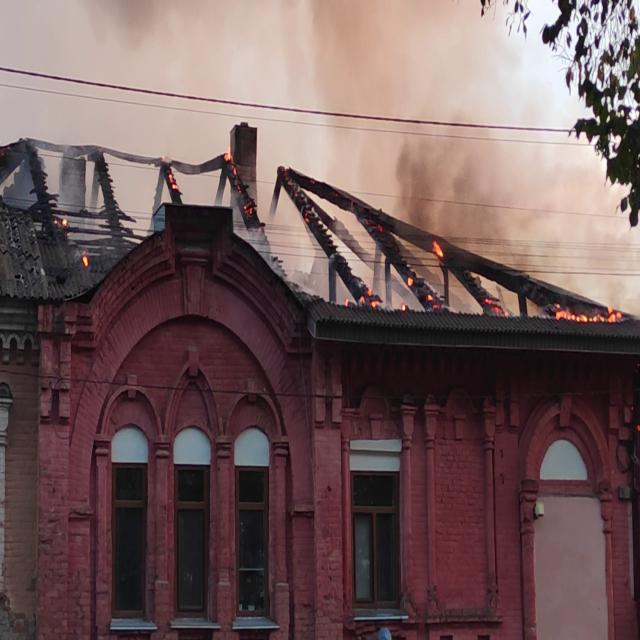fire: (548, 282, 635, 324), (221, 147, 260, 223)
smoke: (382, 93, 541, 271)
